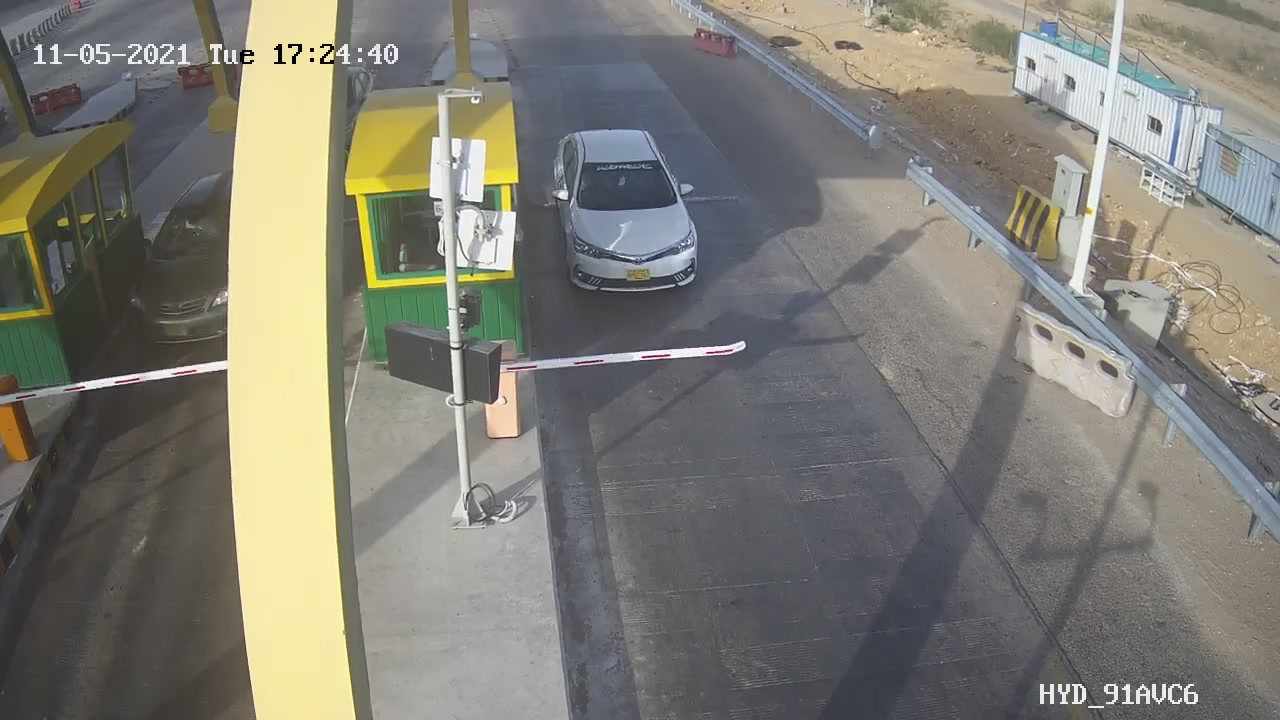F1: (533, 113, 718, 309)
